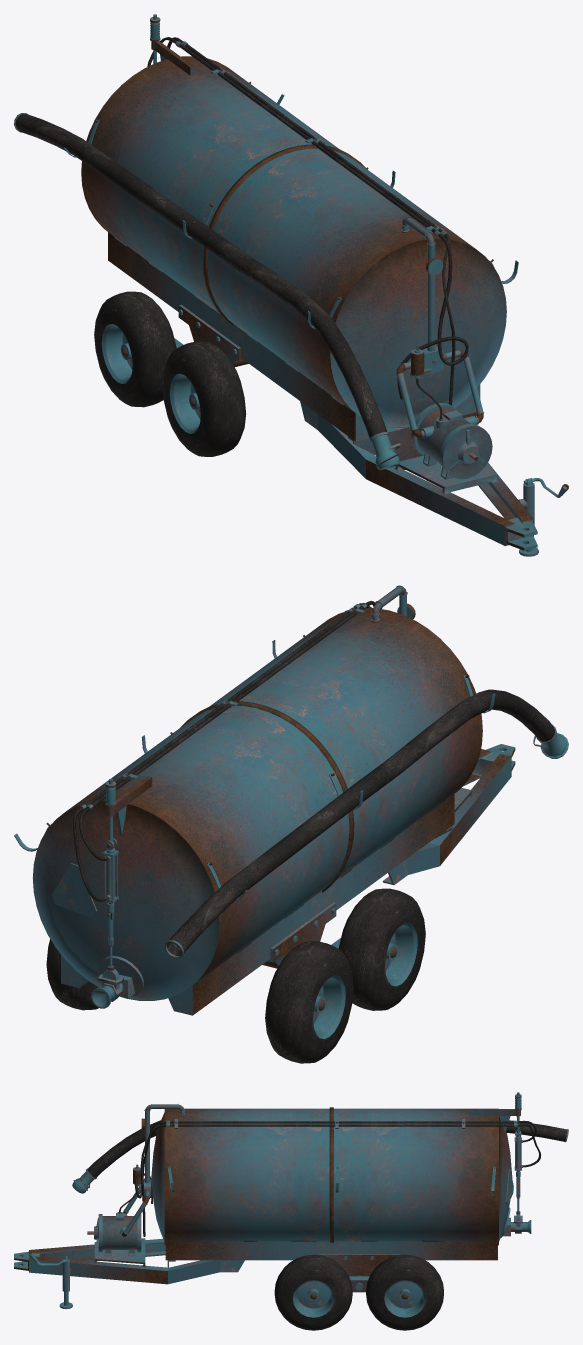
The model's file is SM_FAR_ManureSpreader_01.fbx.
3 views of the same model, one above another, from view 1: azimuth 30°, elevation 25°; view 2: azimuth 150°, elevation 25°; view 3: azimuth 270°, elevation 25° (orthographic). The views are drawn at different scales.
Parts seen in each view (by area): view 1: SM_FAR_ManureSpreader_01.mo; view 2: SM_FAR_ManureSpreader_01.mo; view 3: SM_FAR_ManureSpreader_01.mo.
Boxes of the visible parts, x1=… form: SM_FAR_ManureSpreader_01.mo: x1=14, y1=14, x2=568, y2=556; SM_FAR_ManureSpreader_01.mo: x1=14, y1=585, x2=568, y2=1063; SM_FAR_ManureSpreader_01.mo: x1=14, y1=1092, x2=568, y2=1330.
Bounding box in the file's own units: 211 × 248 × 619.
